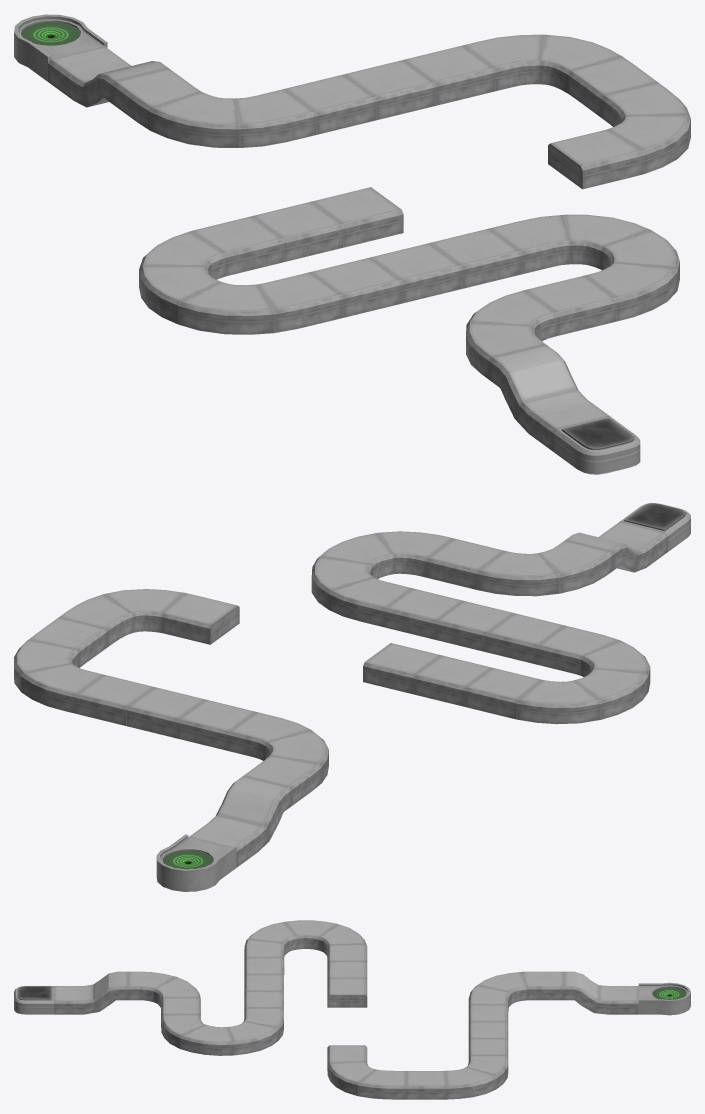
The model's file is ROAD#3 (COLLIDER).fbx.
The picture shows the model from 3 angles, top to bottom: view 1: azimuth 30°, elevation 25°; view 2: azimuth 150°, elevation 25°; view 3: azimuth 270°, elevation 25°; orthographic projection. The views are drawn at different scales.
Parts seen in each view (by area): view 1: ROAD#3, STARTING#3, ENDING#3; view 2: ROAD#3, ENDING#3, STARTING#3; view 3: ROAD#3, ENDING#3, STARTING#3.
Boxes of the visible parts, x1,y1,x2,y2 form: ROAD#3: (48,34,690,452); STARTING#3: (554,416,640,474); ENDING#3: (14,14,107,81); ROAD#3: (14,521,668,867); ENDING#3: (156,834,236,891); STARTING#3: (620,503,690,551); ROAD#3: (53,920,638,1099); ENDING#3: (638,982,690,1015); STARTING#3: (14,986,53,1014).
Size of the model in its own units: 19929 by 1511 by 34055.
